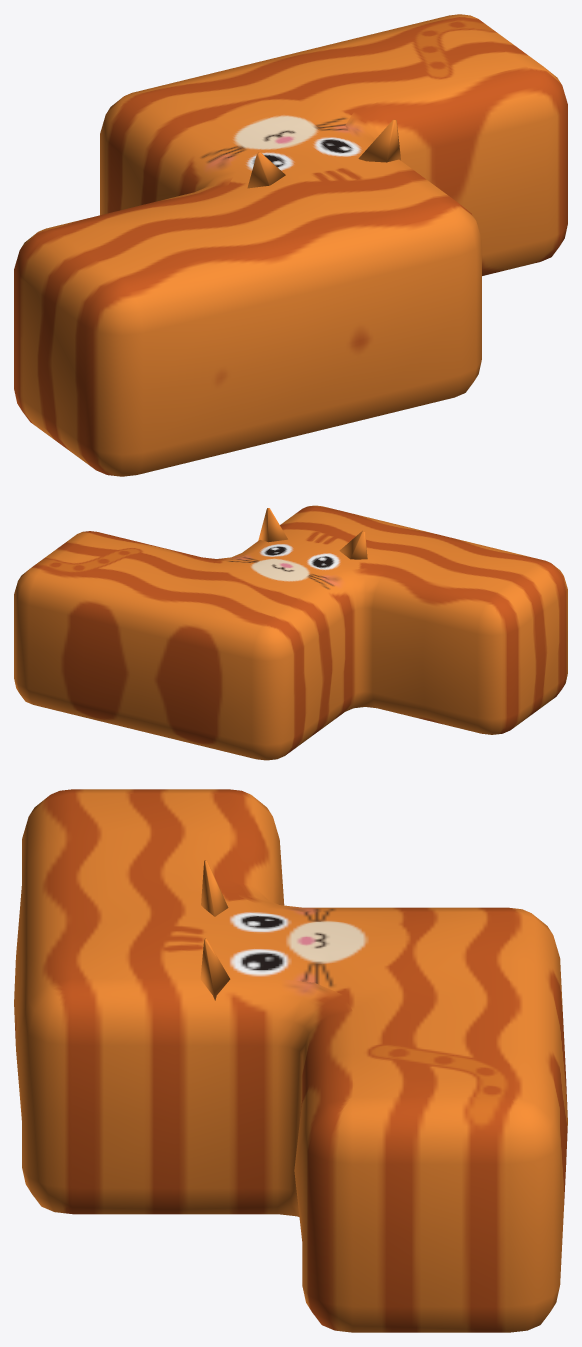
Rendered from Cat_S.fbx.
3 renders of one model, top to bottom at view 1: azimuth 30°, elevation 25°; view 2: azimuth 150°, elevation 25°; view 3: azimuth 270°, elevation 25°, orthographic. The views are drawn at different scales.
Visible parts, largest first — view 1: Cat_S; view 2: Cat_S; view 3: Cat_S.
Boxes of the visible parts, x1,y1,x2,y2 form: Cat_S: (14,14,567,476); Cat_S: (14,505,567,760); Cat_S: (14,789,567,1332).
Bounding box in the file's own units: 2.98 × 1.05 × 1.98.
1 material, 1 textured.
